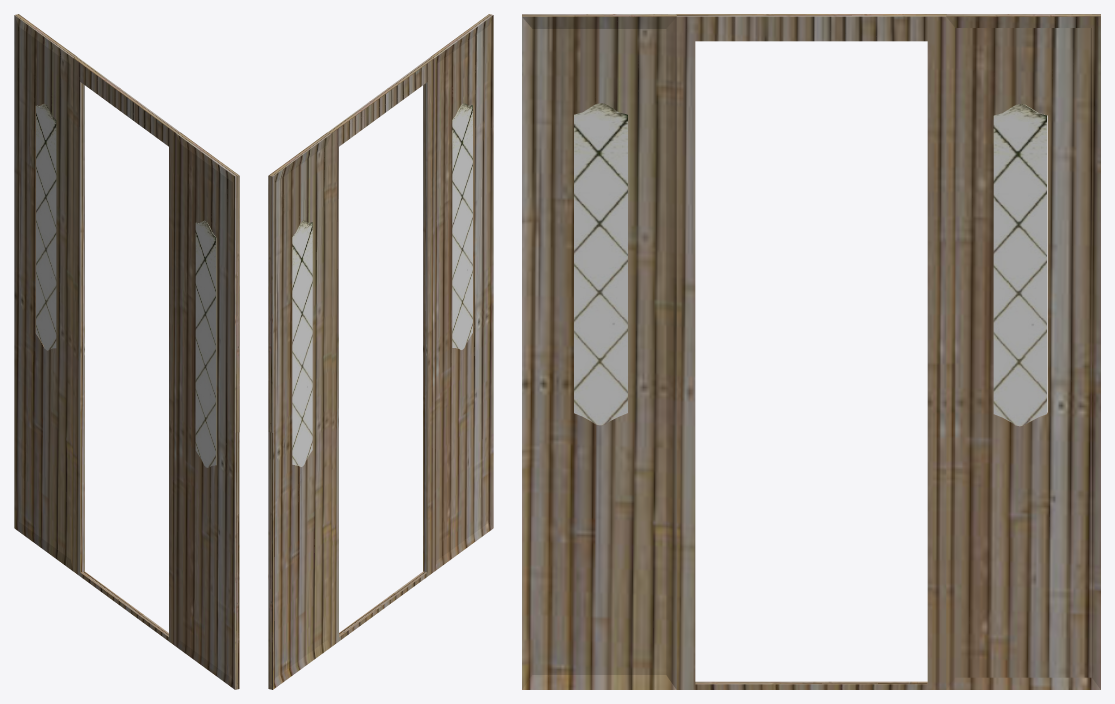
File: Doorframe.fbx
3 views of the same model, side by side, from view 1: azimuth 30°, elevation 25°; view 2: azimuth 150°, elevation 25°; view 3: azimuth 270°, elevation 25° (orthographic). The views are drawn at different scales.
Visible parts, largest first — view 1: Door_frame_glass_Cube.002; view 2: Door_frame_glass_Cube.002; view 3: Door_frame_glass_Cube.002.
Part boxes in pixels (x1,y1,x2,y2): Door_frame_glass_Cube.002: (14,14,239,689); Door_frame_glass_Cube.002: (268,14,493,689); Door_frame_glass_Cube.002: (522,14,1100,689).
Bounding box in the file's own units: 1.81 × 201 × 157.
Materials: 2 (2 with a texture image).
